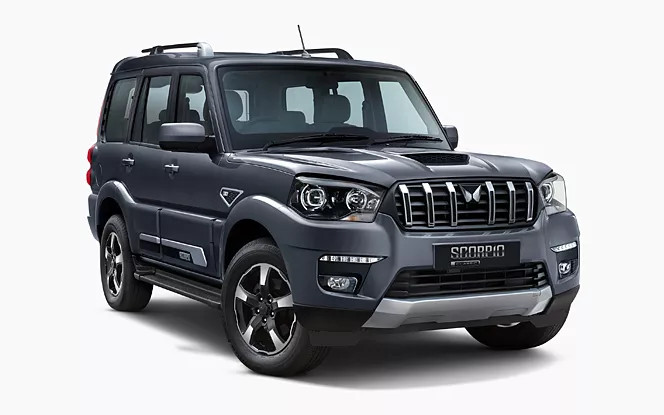car: (85, 24, 583, 376)
